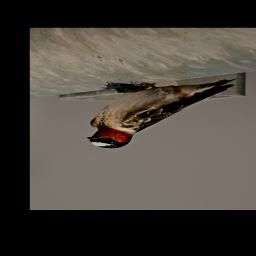Swallow: (85, 78, 238, 150)
